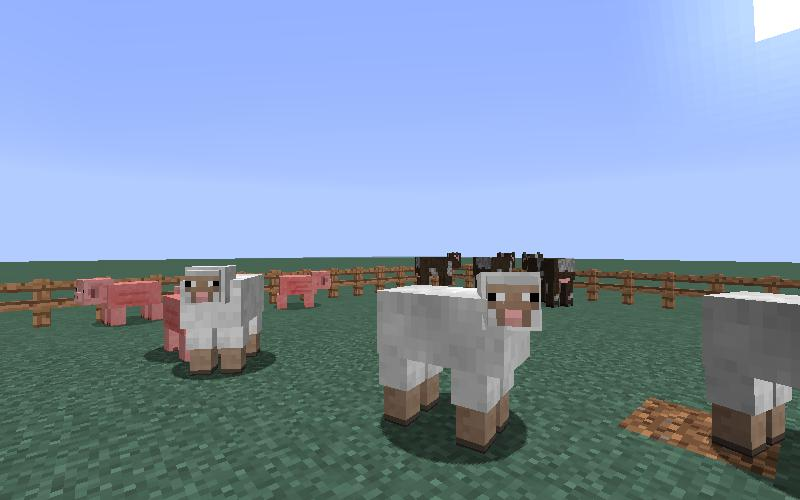cow: (521, 252, 577, 307), (415, 252, 461, 286), (472, 251, 516, 272)
pig: (71, 274, 165, 333), (272, 264, 333, 316)
sheep: (376, 266, 544, 448), (177, 260, 268, 385)
